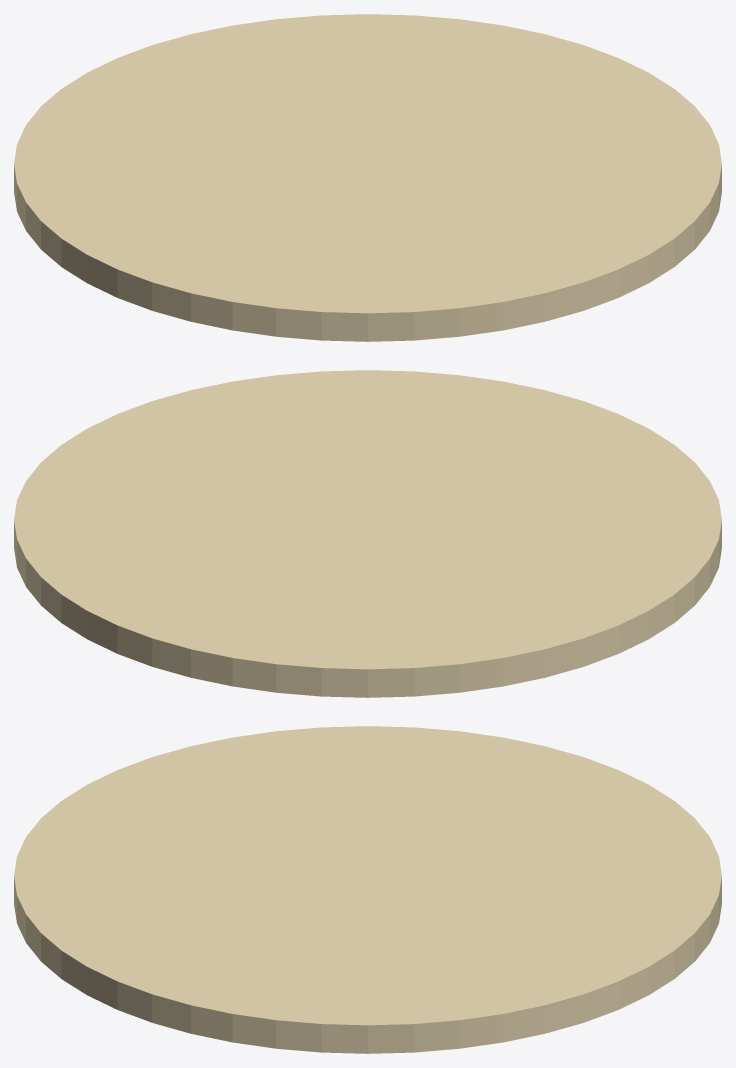
File: number_plate.glb
3 renders of one model, top to bottom at view 1: azimuth 30°, elevation 25°; view 2: azimuth 150°, elevation 25°; view 3: azimuth 270°, elevation 25°, orthographic.
Parts seen in each view (by area): view 1: NumberPlate; view 2: NumberPlate; view 3: NumberPlate.
Part boxes in pixels (box(x1,y1,x2,y2)): NumberPlate: box(14, 14, 721, 341); NumberPlate: box(14, 370, 721, 697); NumberPlate: box(14, 726, 721, 1053).
Bounding box in the file's own units: 0.54 × 0.024 × 0.54.
